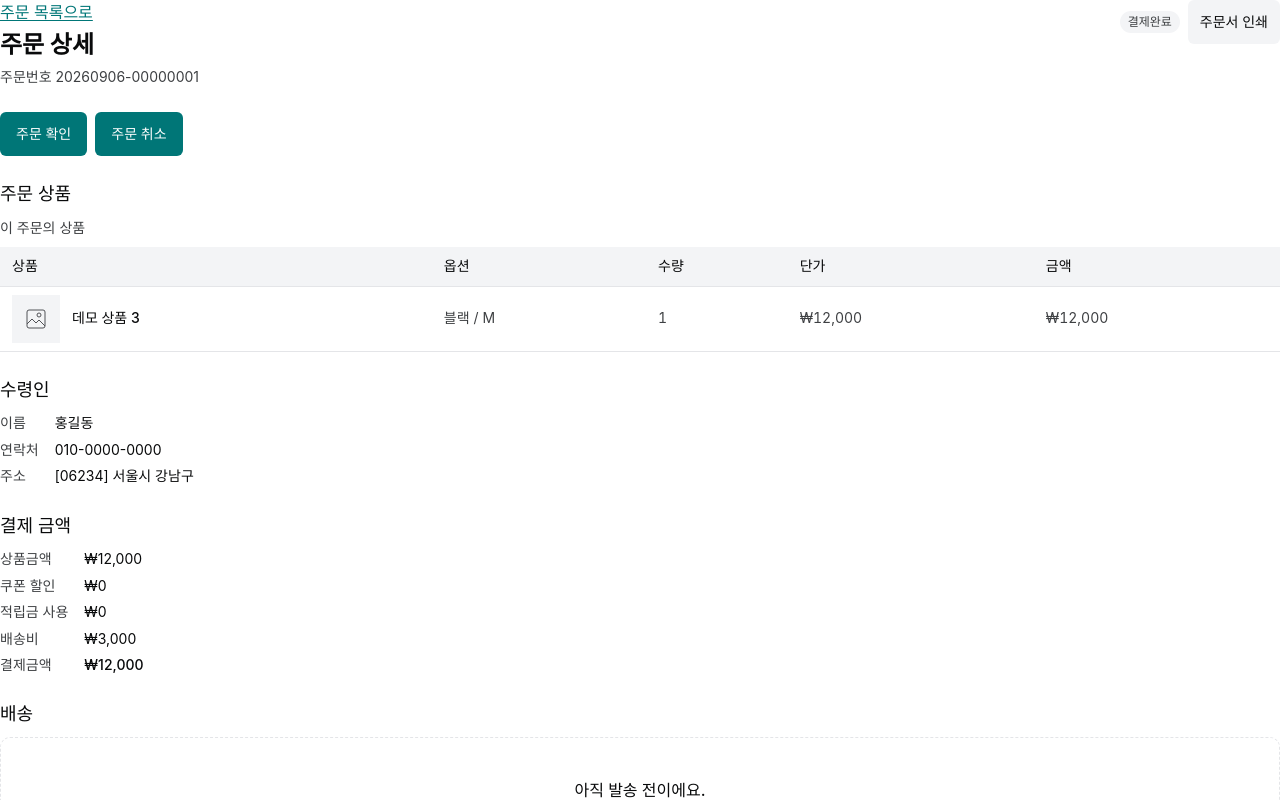
사유가 필요한 이동 (U2) › refuses to submit 취소 without a reason, and says so on the field
The image size is (1280, 800).
Click the button "주문 취소".
click(139, 134)  # box x1=95 y1=112 x2=183 y2=156
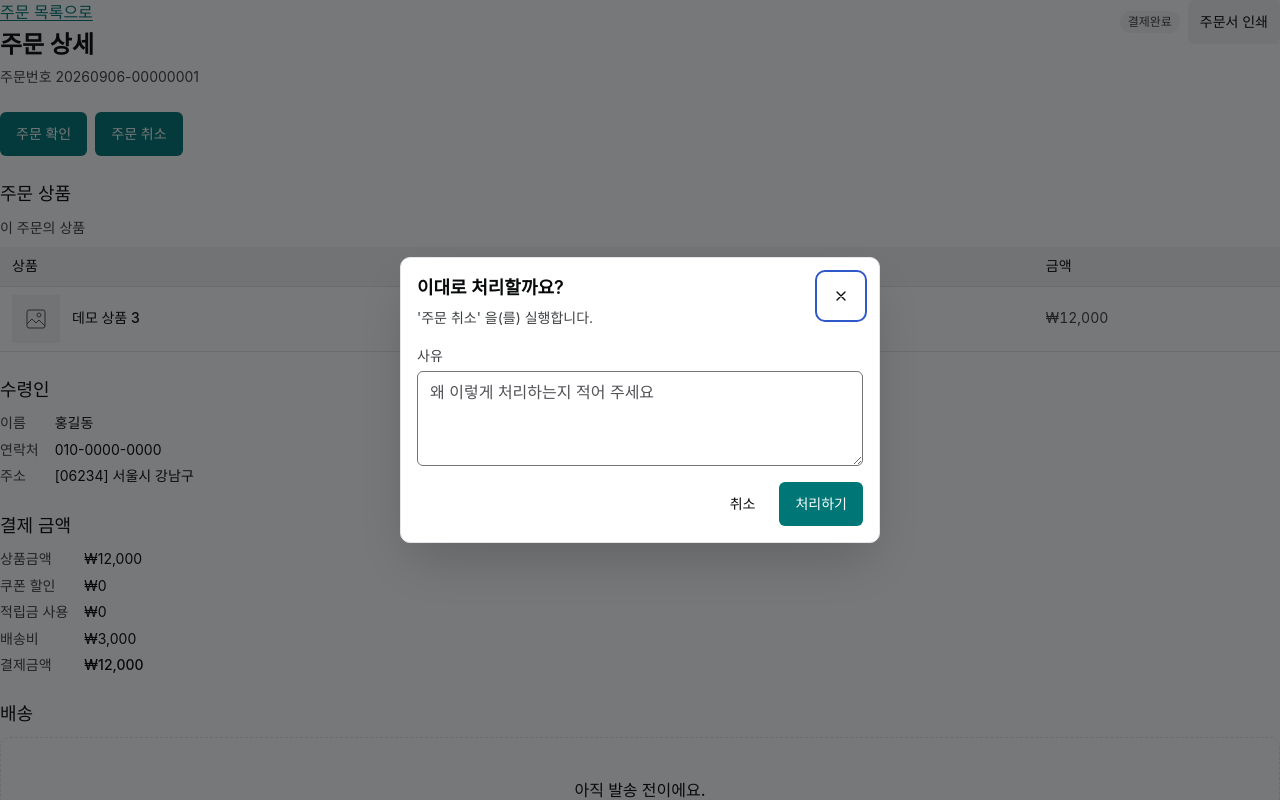
Click the button "처리하기".
click(821, 504)  # box x1=780 y1=482 x2=863 y2=526
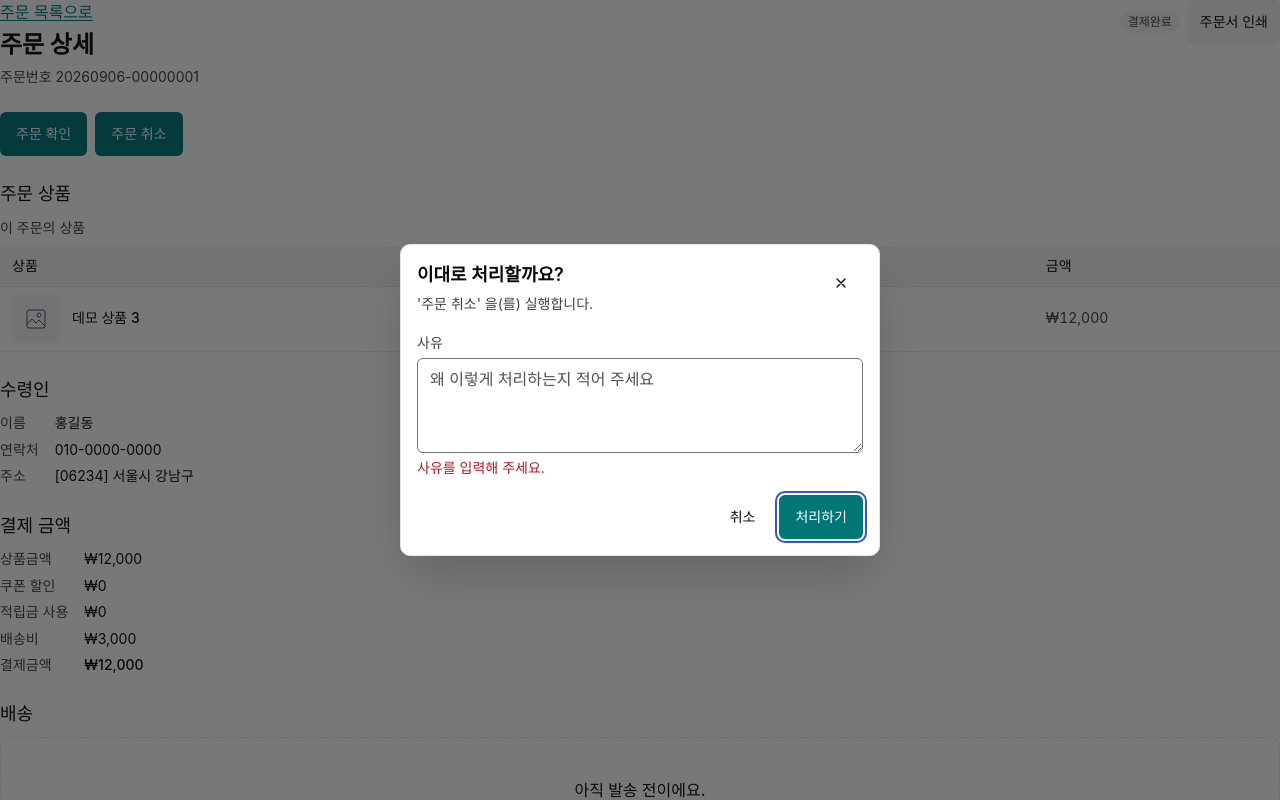
expect the text "사유를 입력해 주세요." is shown: met, box x1=417 y1=459 x2=545 y2=476
